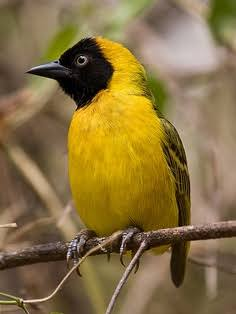target: (14, 36, 214, 291)
